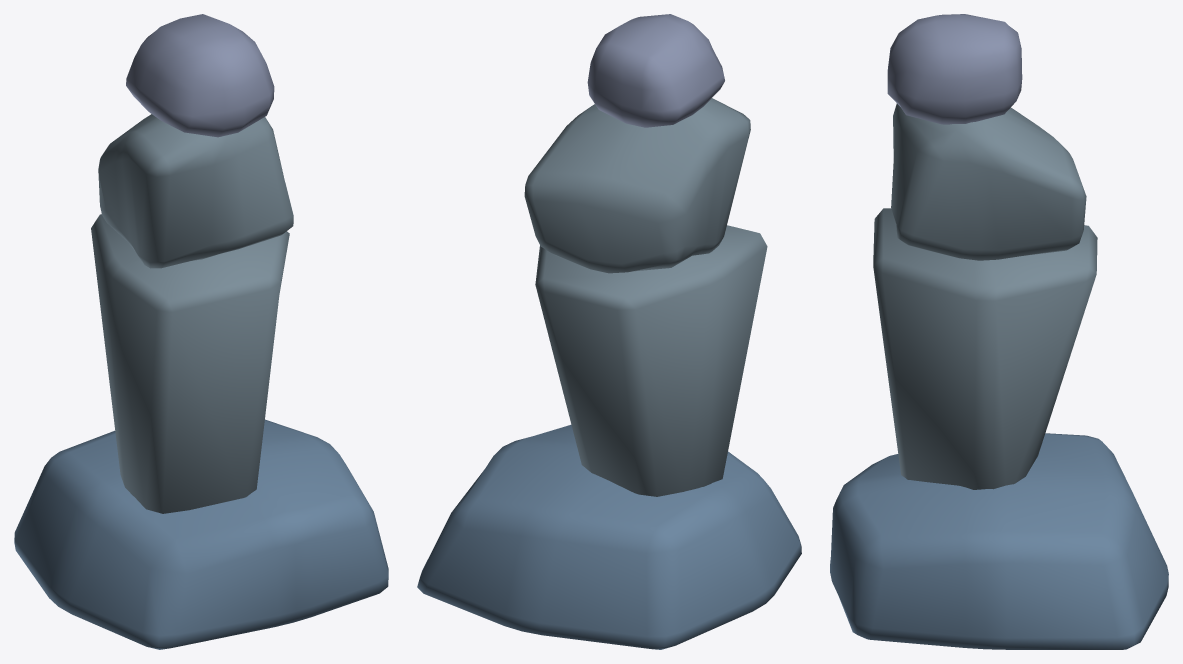
File: StonePillarV2.gltf
3 renders of one model, left to right at view 1: azimuth 30°, elevation 25°; view 2: azimuth 150°, elevation 25°; view 3: azimuth 270°, elevation 25°, orthographic. The views are drawn at different scales.
Parts seen in each view (by area): view 1: StonePillarV2; view 2: StonePillarV2; view 3: StonePillarV2.
Part boxes in pixels (box(x1,y1,x2,y2)): StonePillarV2: box(14, 14, 388, 649); StonePillarV2: box(417, 14, 801, 649); StonePillarV2: box(830, 14, 1168, 649).
Size of the model in its own units: 0.6087 by 1.11 by 0.6121.
